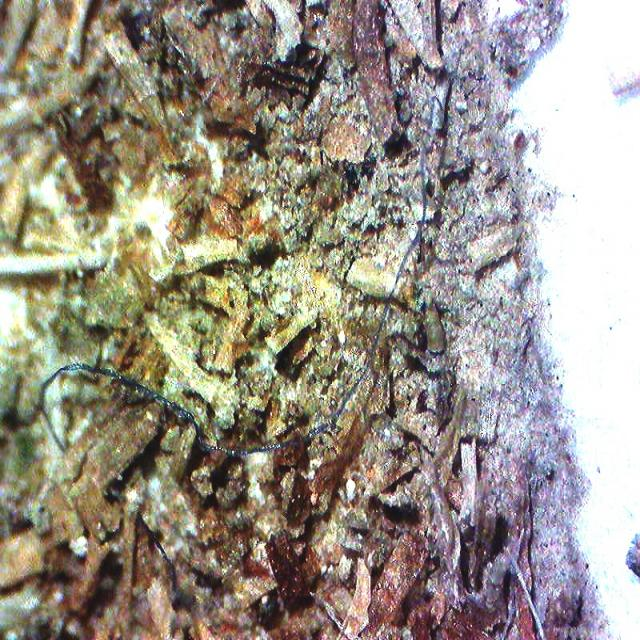microplastic: (43, 255, 409, 457)
